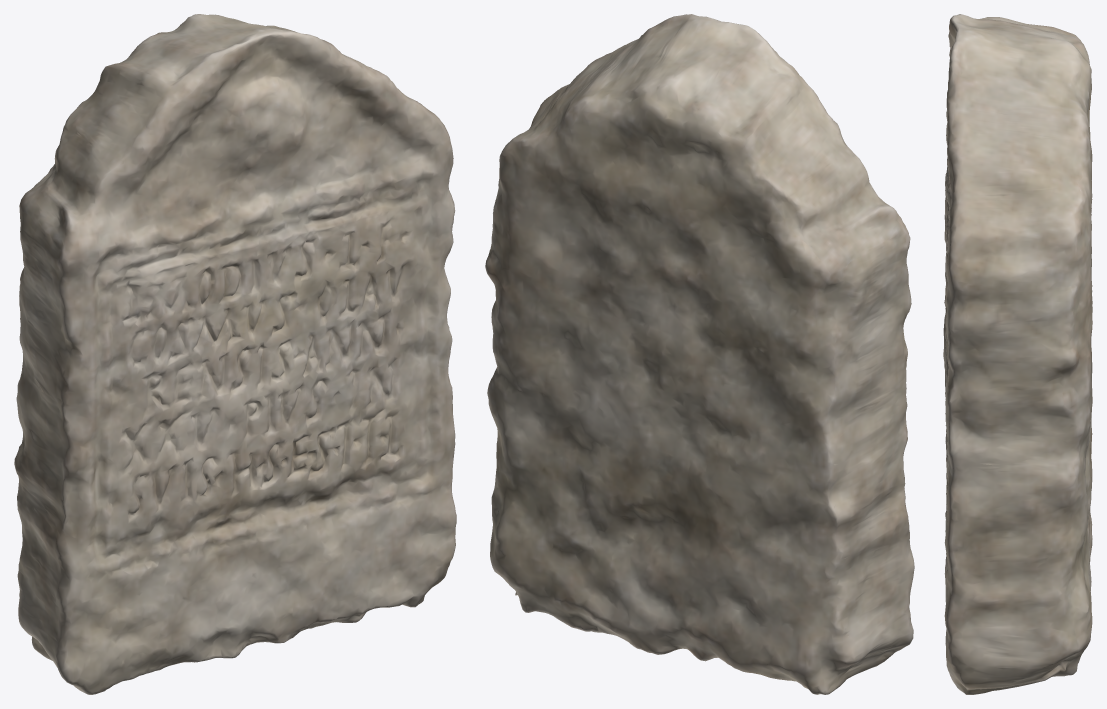
File: 18_INS_modivs.glb
3 renders of one model, left to right at view 1: azimuth 30°, elevation 25°; view 2: azimuth 150°, elevation 25°; view 3: azimuth 270°, elevation 25°, orthographic. The views are drawn at different scales.
Visible parts, largest first — view 1: VALERIO_LUCIO_MODIVS_LP; view 2: VALERIO_LUCIO_MODIVS_LP; view 3: VALERIO_LUCIO_MODIVS_LP.
Part boxes in pixels (x1=…): VALERIO_LUCIO_MODIVS_LP: x1=14, y1=14, x2=456, y2=694; VALERIO_LUCIO_MODIVS_LP: x1=485, y1=14, x2=914, y2=694; VALERIO_LUCIO_MODIVS_LP: x1=943, y1=14, x2=1092, y2=694.
Bounding box in the file's own units: 0.5534 × 0.8305 × 0.1881.
1 material, 1 textured.
